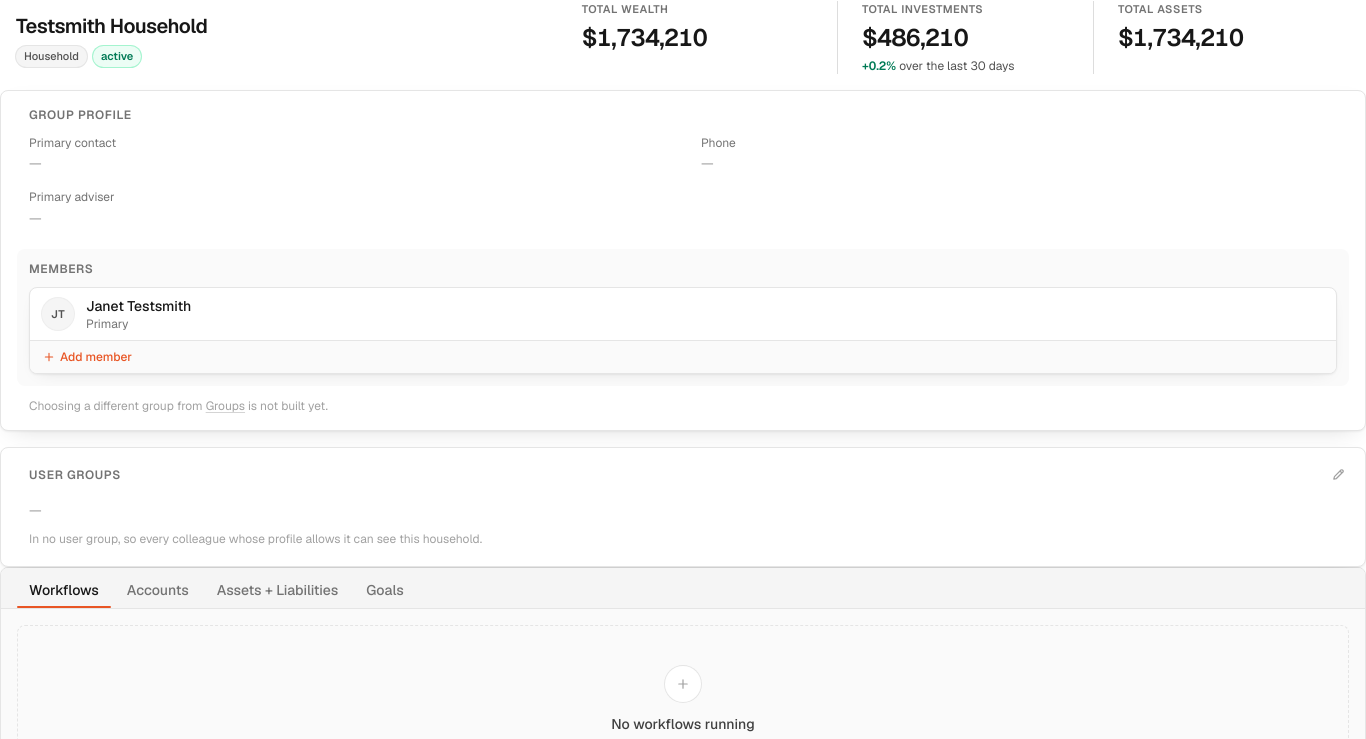
Test: the Assets + Liabilities tab › the totals › with one side empty there is no net position to state
Click the tab "Assets + Liabilities" at (278, 590), box [205, 572, 350, 608]
(page scrolled)
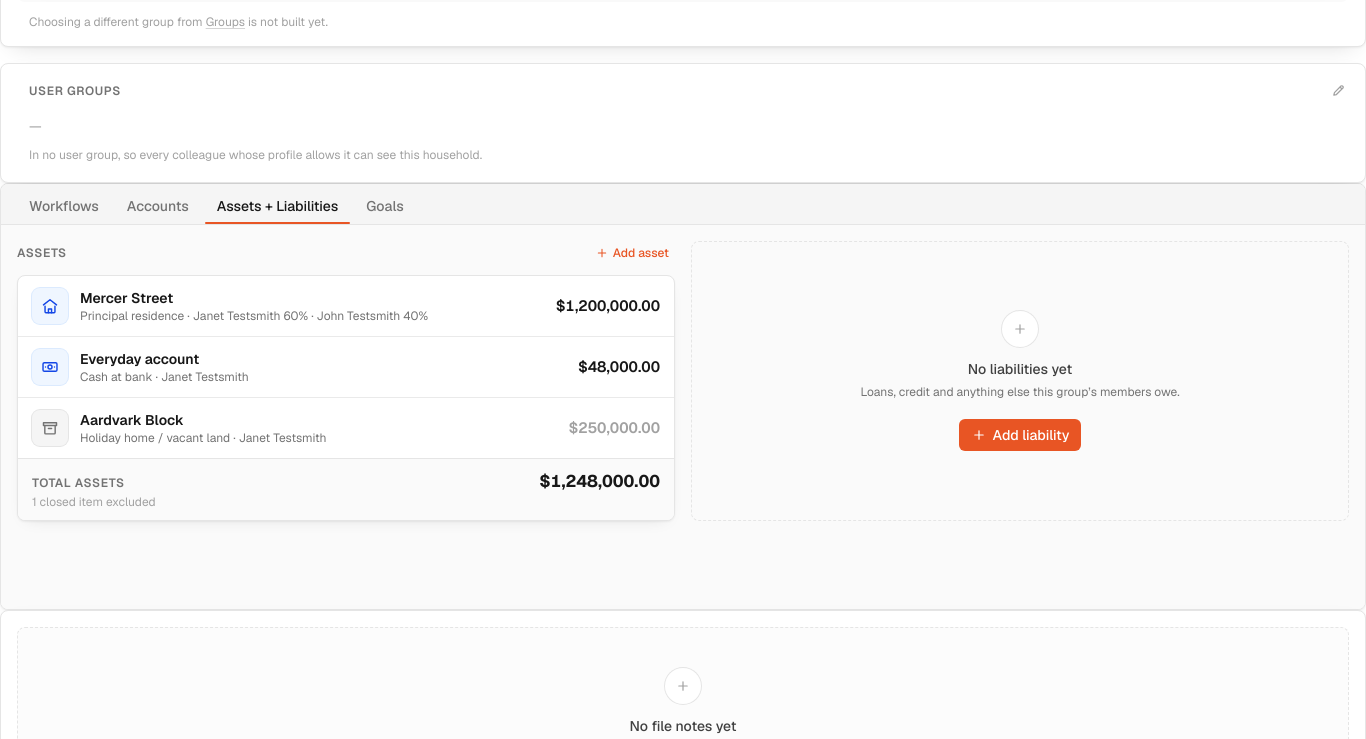
Expected: the text "No liabilities yet" is shown, [968, 359, 1072, 379]
